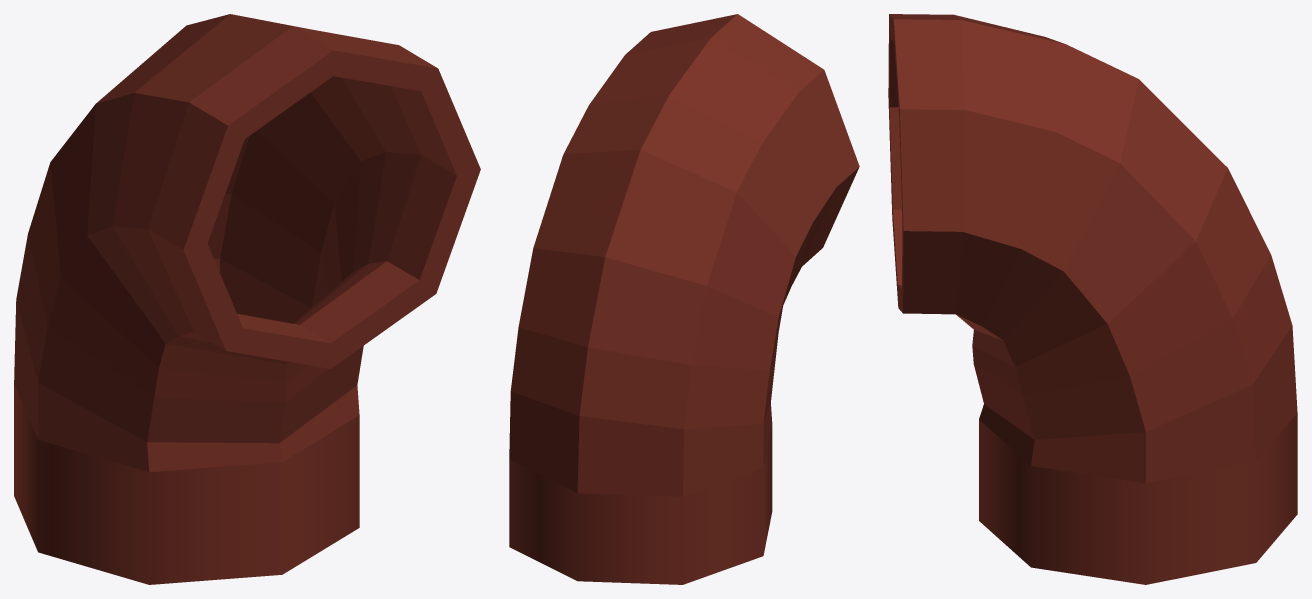
File: BloodVessel_CurveBend.fbx
3 renders of one model, left to right at view 1: azimuth 30°, elevation 25°; view 2: azimuth 150°, elevation 25°; view 3: azimuth 270°, elevation 25°, orthographic. The views are drawn at different scales.
Visible parts, largest first — view 1: CurveBend; view 2: CurveBend; view 3: CurveBend.
Boxes of the visible parts, x1,y1,x2,y2 form: CurveBend: (14,14,480,584); CurveBend: (509,14,859,584); CurveBend: (888,14,1297,584).
Size of the model in its own units: 156 by 263 by 194.
